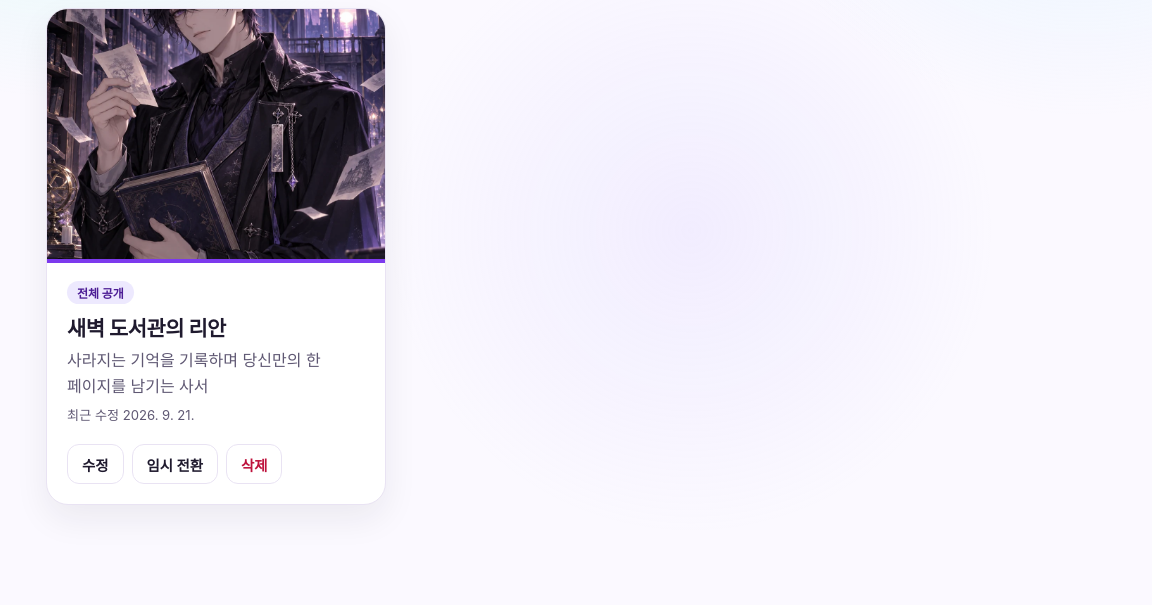
Test: 로컬 보관함 › 삭제 확인 뒤 제작 캐릭터와 연결 대화를 제거한다
(page scrolled)
Click the button with aria-label "새벽 도서관의 리안 삭제": (254, 464) [226,444,282,484]
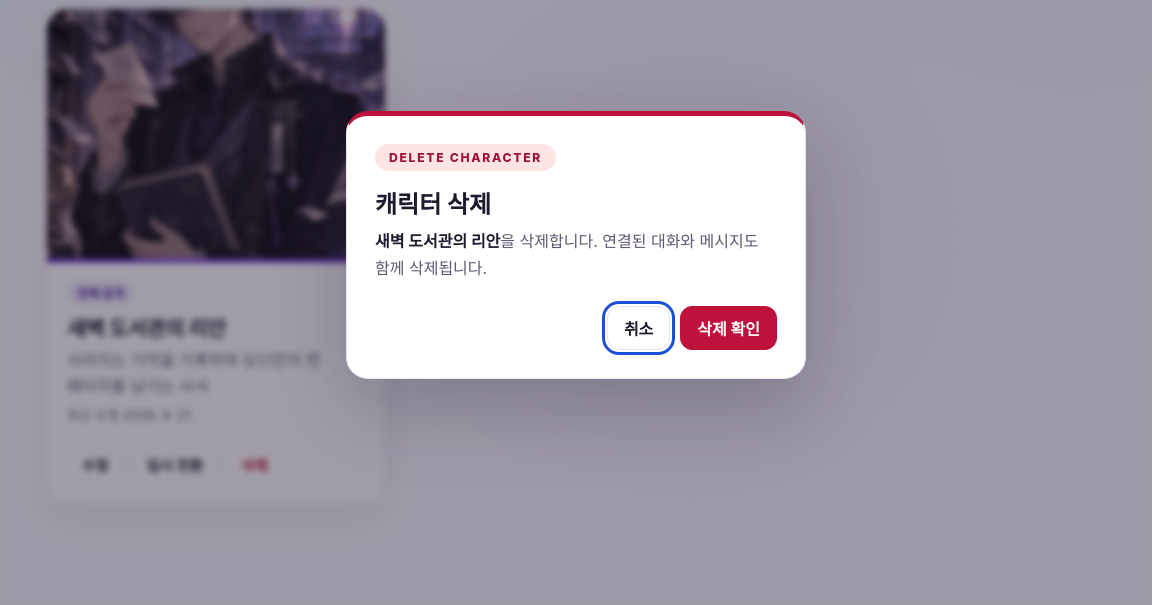
Now the dialog "캐릭터 삭제" shows "연결된 대화와 메시지도 함께 삭제됩니다.", box [375,231,758,278]
Click the button "삭제 확인": (729, 328) [680,306,777,350]
(page scrolled)
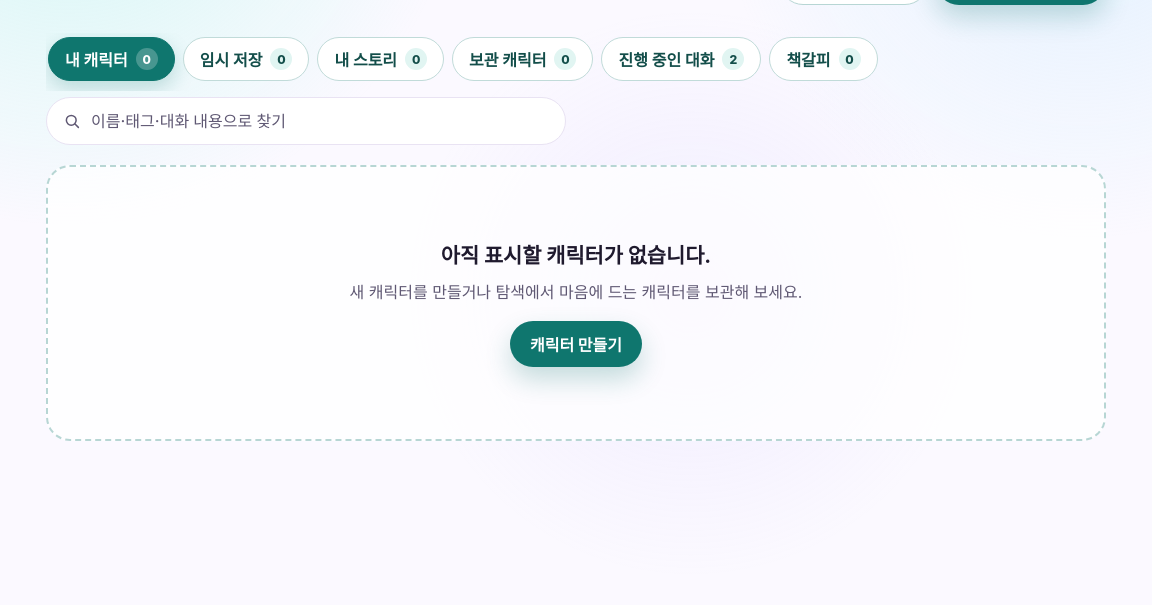
Now the link "새벽 도서관의 리안" is gone
